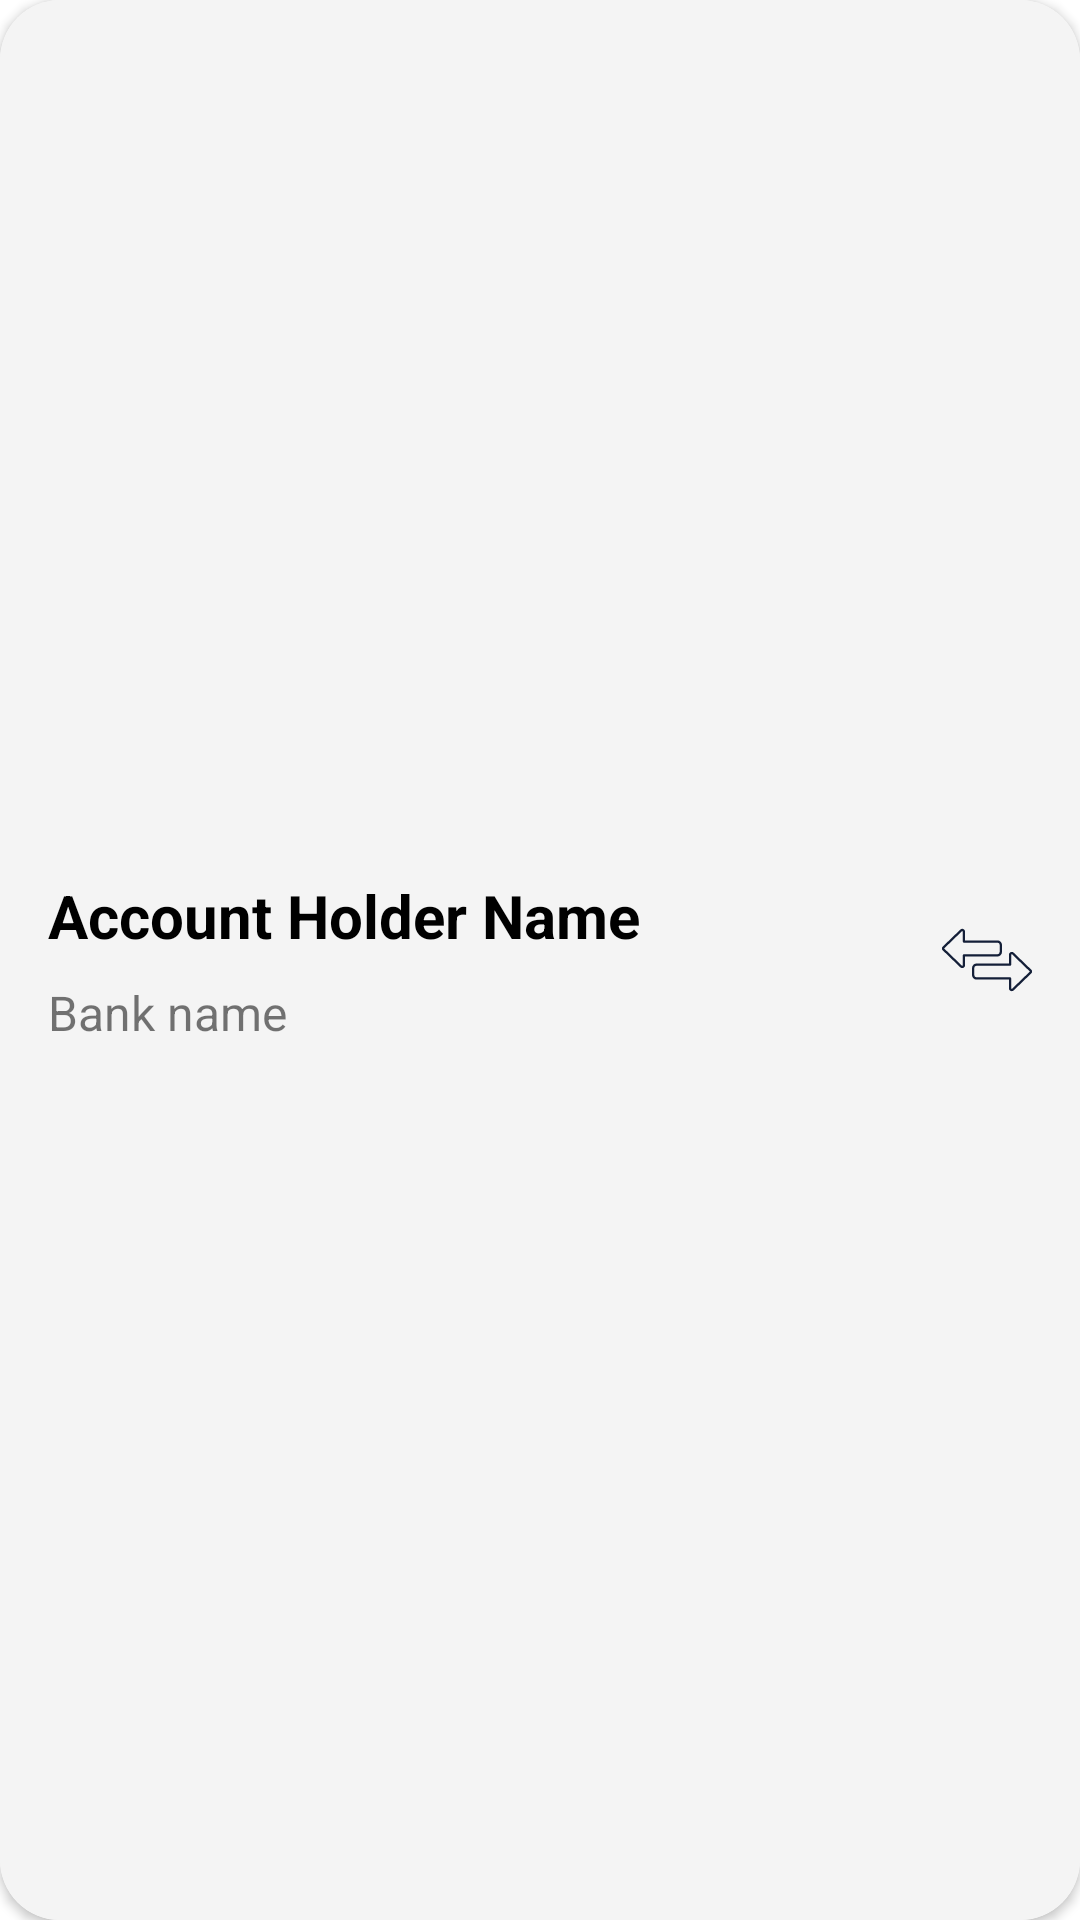

Screen size 1080x1920. Icon name, then its center in pixels as point (x, y):
money transfer: point (987, 960)
